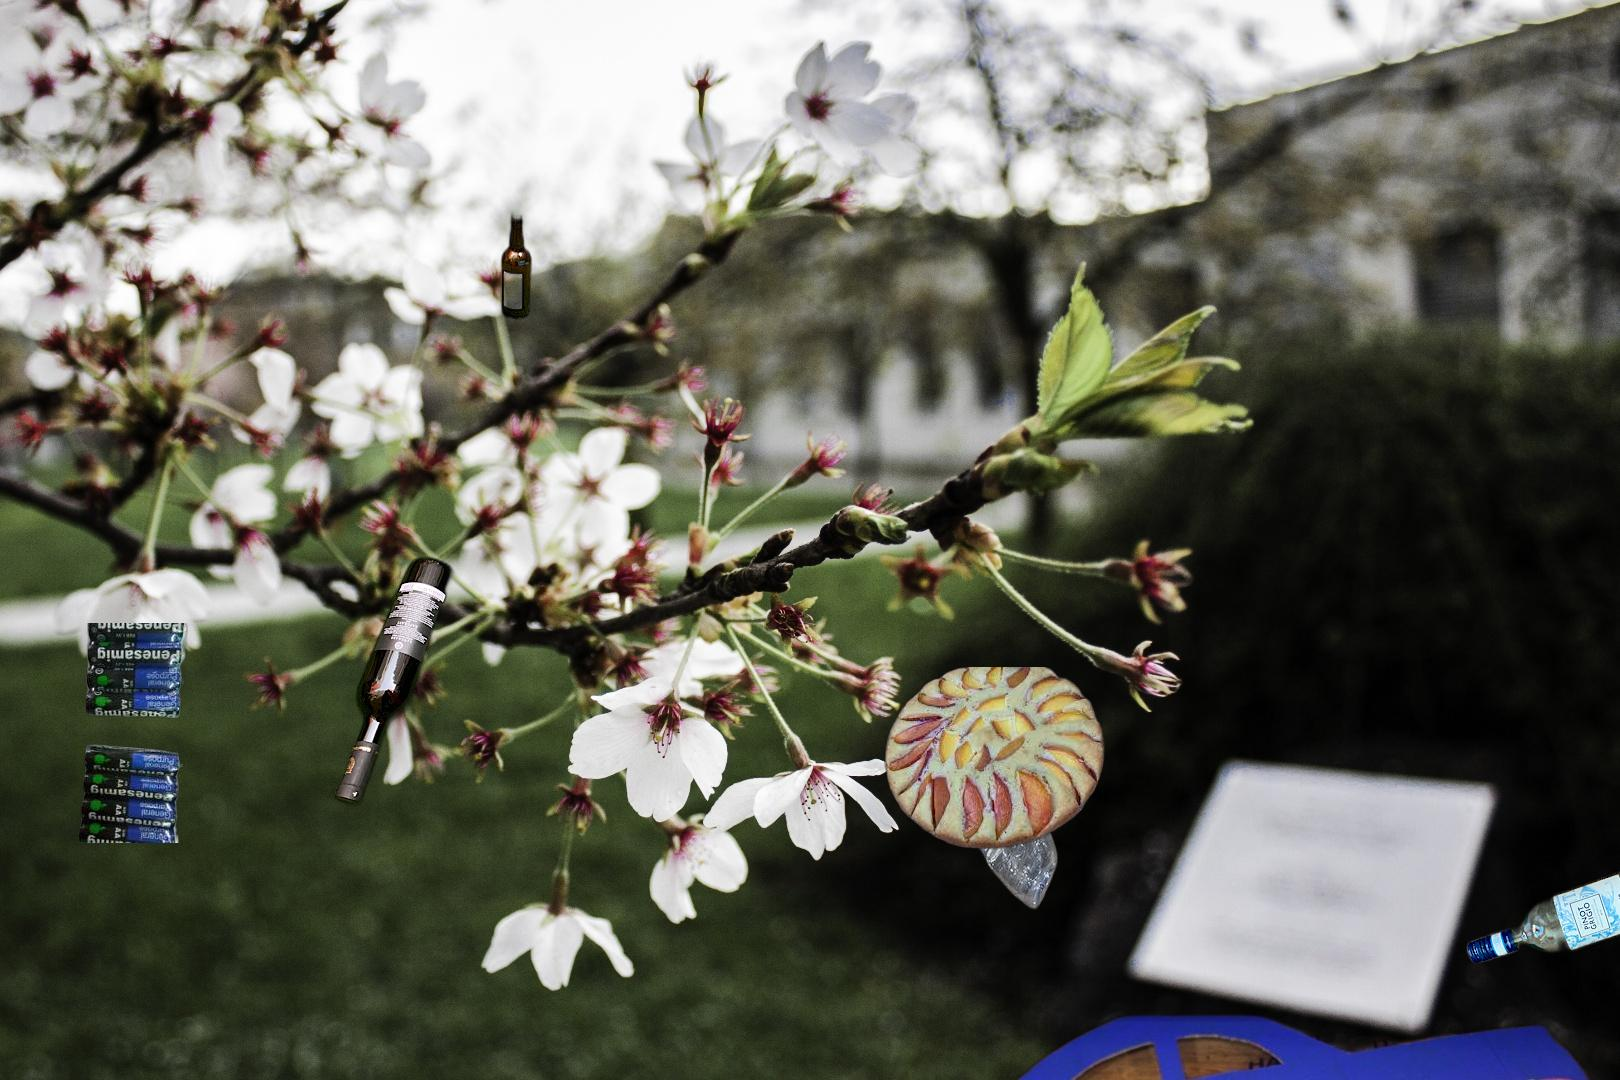battery: (76, 623, 190, 843)
biological: (882, 667, 1108, 852)
glass: (330, 194, 740, 811), (1463, 849, 1620, 969)
plastic-bottles: (728, 839, 1096, 1080), (922, 693, 1060, 914)
trashbox-cardboard: (874, 1010, 1620, 1080)
